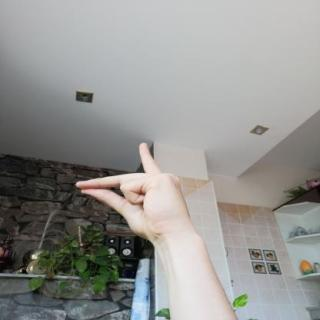TAA: (67, 136, 201, 247)
